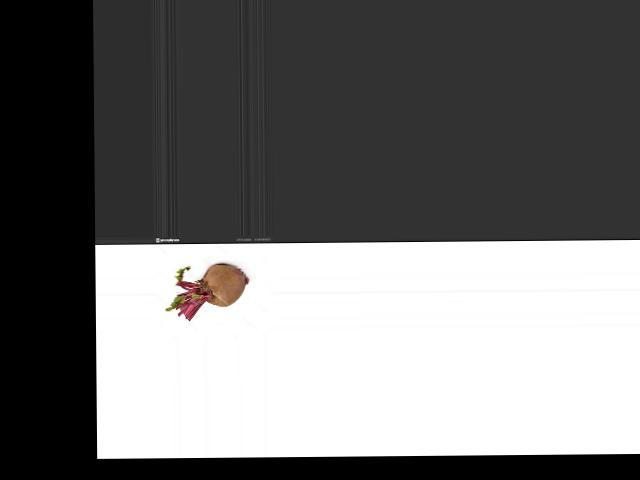beet: (165, 262, 249, 321)
